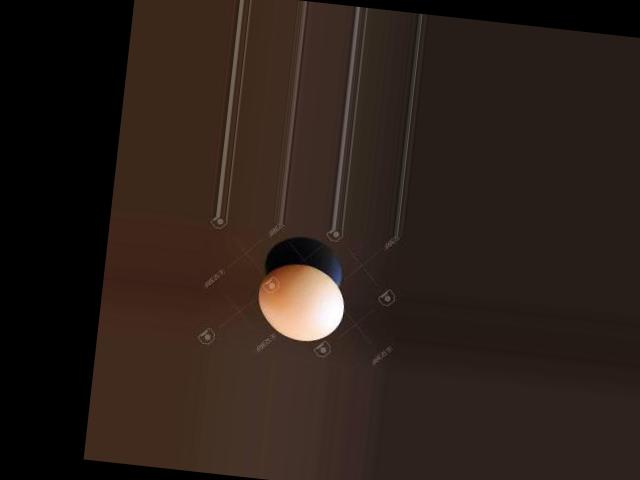egg: (254, 259, 348, 344)
